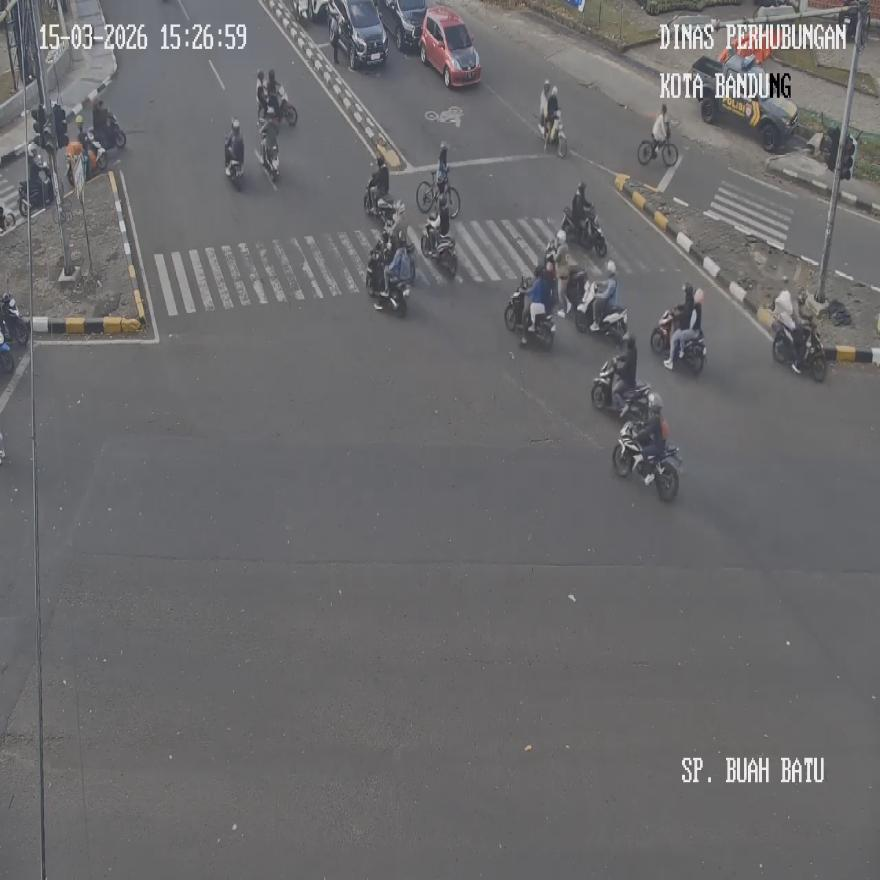Mobil: (686, 54, 798, 152), (418, 6, 481, 88), (328, 0, 387, 68)
Motor: (614, 422, 681, 502), (366, 247, 409, 317), (374, 228, 415, 283), (561, 208, 607, 257), (421, 220, 457, 276), (0, 290, 28, 347), (18, 172, 54, 216), (504, 277, 531, 332), (88, 112, 127, 150), (803, 323, 827, 382), (559, 265, 587, 310), (364, 184, 395, 224), (592, 359, 616, 410), (650, 310, 675, 354), (546, 110, 567, 157), (576, 283, 596, 332), (278, 86, 298, 127), (262, 139, 279, 182), (0, 328, 15, 373), (67, 141, 82, 185), (229, 159, 244, 190)
